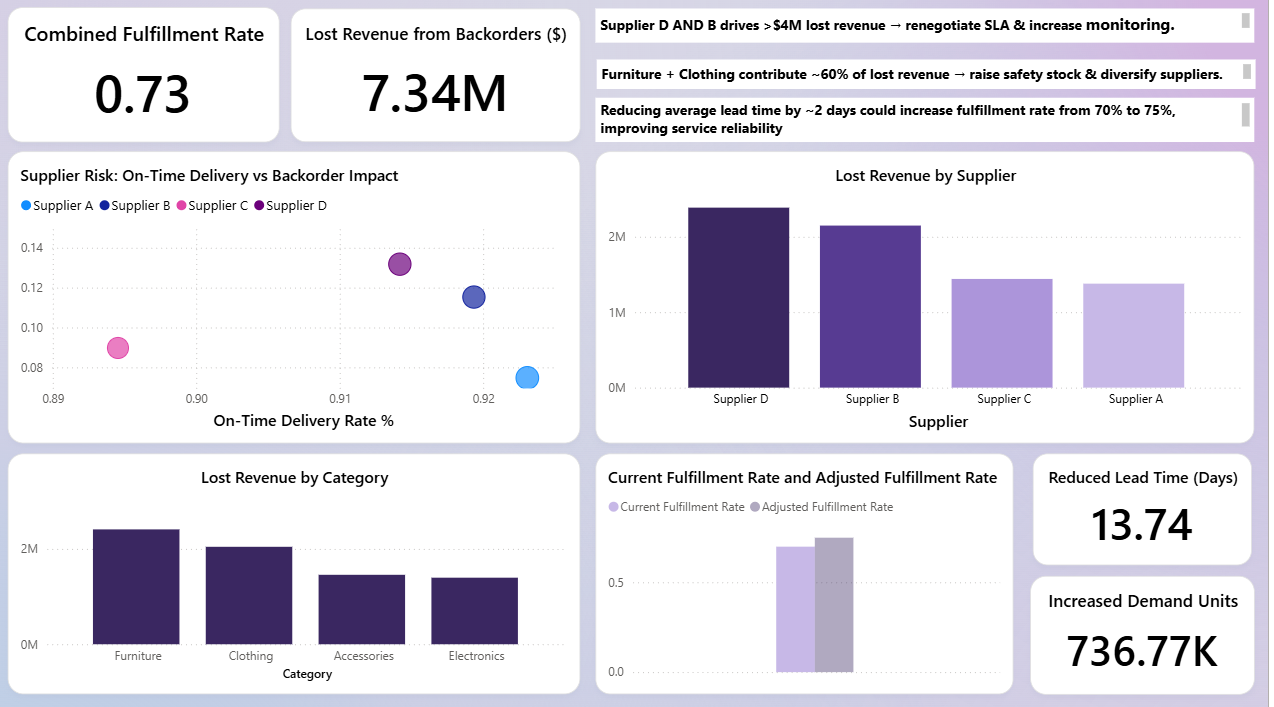

This screenshot's page, from the dashboard's own definition file:
{"tool":"powerbi","page":{"name":"Lost Revenue Insights and Supplier Risk Analysis","canvas":[1280,720],"ordinal":1},"visuals":[{"type":"scatterChart","title":"Supplier Risk: On-Time Delivery vs Backorder Impact","fields":{"X":["Inventory and Supply Chain Dataset.On-Time Delivery Rate %"],"Y":["Inventory and Supply Chain Dataset.Backorder Rate %"],"Size":["Inventory and Supply Chain Dataset.Sales Volume"],"Series":["Inventory and Supply Chain Dataset.Supplier"]},"box":[7.7,155.7,577.9,294.7],"z":0},{"type":"card","title":"Lost Revenue from Backorders ($)","fields":{"Values":["Inventory and Supply Chain Dataset.Lost Revenue"]},"box":[293.4,11.6,292.2,135.1],"z":1000},{"type":"clusteredColumnChart","fields":{"Y":["Inventory and Supply Chain Dataset.Current Fulfillment Rate","Inventory and Supply Chain Dataset.Adjusted Fulfillment Rate"]},"box":[601,460.8,422.1,243.3],"z":2000},{"type":"card","title":"Combined Fulfillment Rate","fields":{"Values":["Inventory and Supply Chain Dataset.Combined Fulfillment Rate"]},"box":[7.7,10.3,274.1,136.4],"z":4000},{"type":"card","title":"Increased Demand Units","fields":{"Values":["Inventory and Supply Chain Dataset.Increased Demand Units"]},"box":[1039.9,584.3,226.5,119.7],"z":5000},{"type":"card","title":"Reduced  Lead  Time (Days)","fields":{"Values":["Inventory and Supply Chain Dataset.Reduced Lead Time (Days)"]},"box":[1042.5,460.8,221.4,113.3],"z":6000},{"type":"columnChart","fields":{"Category":["Inventory and Supply Chain Dataset.Supplier"],"Y":["Inventory and Supply Chain Dataset.Lost Revenue"]},"box":[601,155.7,665.4,294.7],"z":7000},{"type":"columnChart","fields":{"Y":["Inventory and Supply Chain Dataset.Lost Revenue"],"Category":["Inventory and Supply Chain Dataset.Category"]},"box":[7.7,460.8,577.9,243.3],"z":8000},{"type":"textbox","box":[601,11.6,665.4,34.8],"z":9000},{"type":"textbox","box":[602.3,63.1,665.4,29.6],"z":10000},{"type":"textbox","box":[601,101.7,665.4,45],"z":11000}]}

Visuals, with their boxes in screenshot pixels (x1, y1, x2, y2), scaled from the page's 1280x720 canvas onto the 1274x707 screenshot:
"Supplier Risk: On-Time Delivery vs Backorder Impact" scatterChart: left=8, top=153, right=583, bottom=442
"Lost Revenue from Backorders ($)" card: left=292, top=11, right=583, bottom=144
clusteredColumnChart - Inventory and Supply Chain Dataset.Current Fulfillment Rate x Inventory and Supply Chain Dataset.Adjusted Fulfillment Rate: left=598, top=452, right=1018, bottom=691
"Combined Fulfillment Rate" card: left=8, top=10, right=280, bottom=144
"Increased Demand Units" card: left=1035, top=574, right=1260, bottom=691
"Reduced  Lead  Time (Days)" card: left=1038, top=452, right=1258, bottom=564
columnChart - Inventory and Supply Chain Dataset.Supplier x Inventory and Supply Chain Dataset.Lost Revenue: left=598, top=153, right=1260, bottom=442
columnChart - Inventory and Supply Chain Dataset.Lost Revenue x Inventory and Supply Chain Dataset.Category: left=8, top=452, right=583, bottom=691
textbox: left=598, top=11, right=1260, bottom=46
textbox: left=599, top=62, right=1262, bottom=91
textbox: left=598, top=100, right=1260, bottom=144
